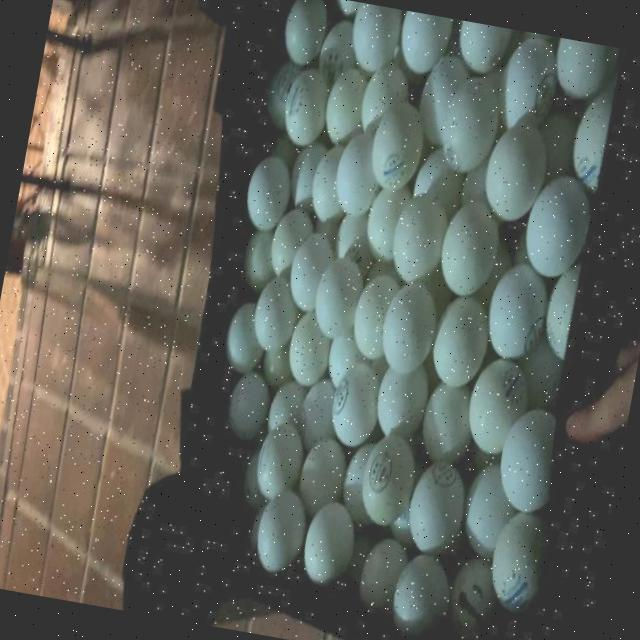ping-pong-ball: (514, 161, 600, 289), (488, 392, 568, 516), (455, 352, 535, 473), (428, 66, 511, 182), (473, 110, 550, 228), (428, 190, 508, 300), (477, 251, 552, 365), (399, 454, 475, 566), (353, 418, 425, 534), (423, 284, 496, 396), (480, 507, 554, 612), (318, 354, 391, 454), (364, 88, 434, 192), (374, 274, 444, 378), (232, 140, 300, 245), (382, 187, 454, 286), (293, 489, 365, 588), (326, 120, 391, 224), (243, 479, 310, 579), (272, 56, 338, 154), (339, 268, 404, 365), (304, 250, 368, 345), (240, 270, 306, 362), (278, 220, 334, 316), (341, 0, 408, 80), (243, 412, 302, 502), (280, 306, 338, 392), (210, 294, 268, 376), (218, 366, 276, 448), (389, 9, 457, 76), (273, 0, 333, 69)
